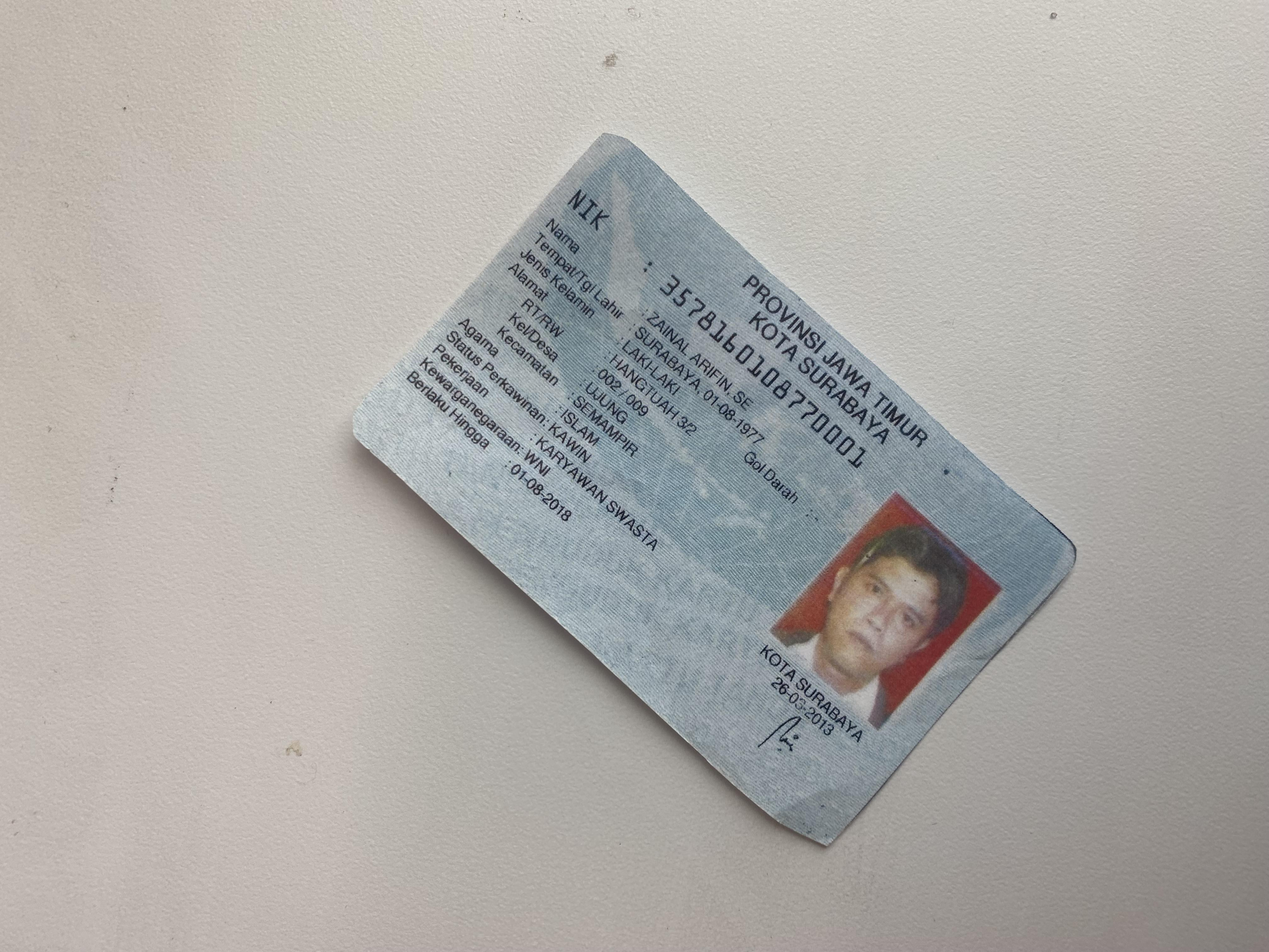ID-card: (132, 261, 1107, 803)
